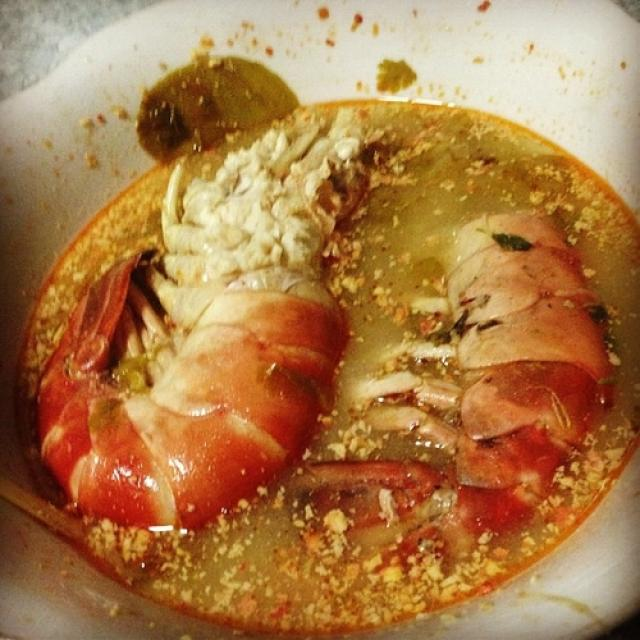汤锅炖物: (32, 32, 605, 626)
